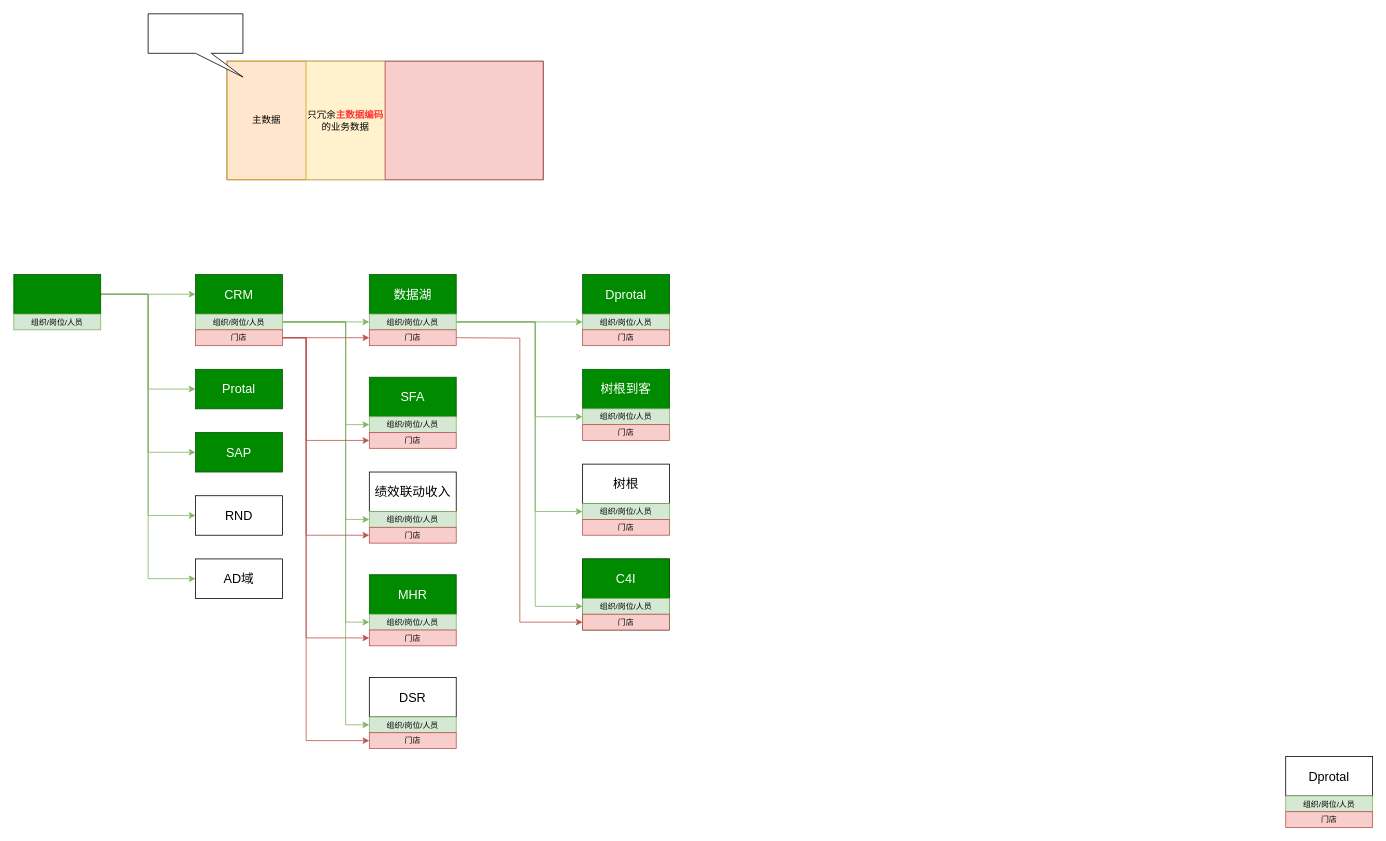
This 1386x841 diagram has some shape labels left out. The shapes that lost their labels are listed below. From the top down, each one's centre as x and y in pixels, then its label:
At [195,45]: "等待上游 同步完成新号".
At [463,120]: "既冗余 主数据编码 ，又冗余 主数据其他属性".
At [57,294]: "SF".
